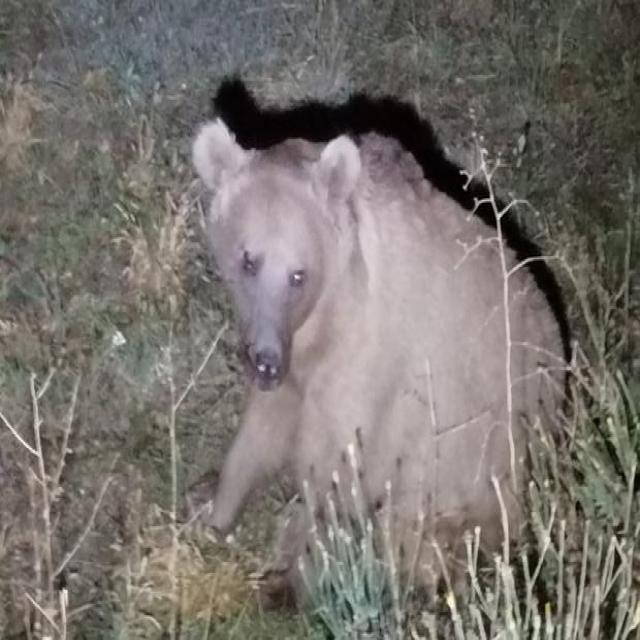Bear: (191, 120, 573, 607)
